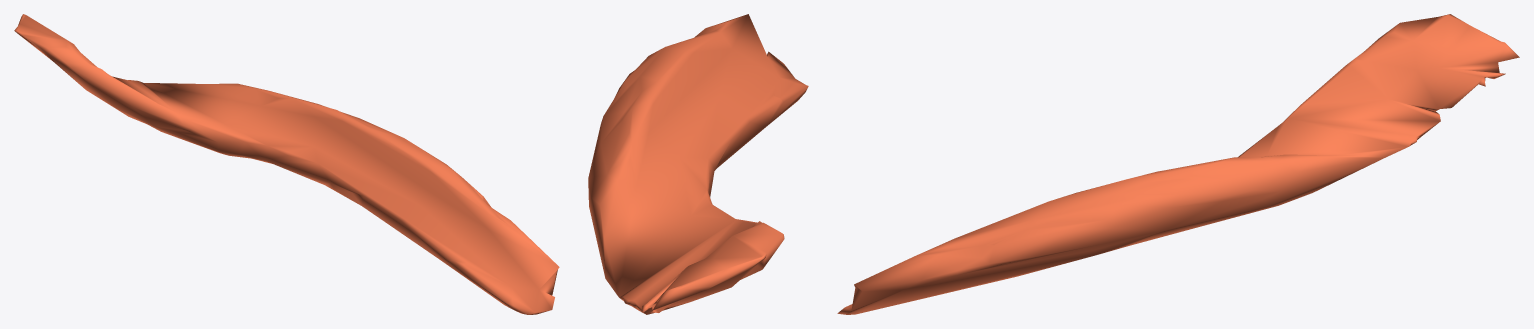
File: Opponens_digiti_minimi_foot_left.glb
The picture shows the model from 3 angles, left to right: view 1: azimuth 30°, elevation 25°; view 2: azimuth 150°, elevation 25°; view 3: azimuth 270°, elevation 25°; orthographic projection. The views are drawn at different scales.
Parts seen in each view (by area): view 1: Opponens_digiti_minimi_of_foot.l_Generated_Mesh_From_X3D.318; view 2: Opponens_digiti_minimi_of_foot.l_Generated_Mesh_From_X3D.318; view 3: Opponens_digiti_minimi_of_foot.l_Generated_Mesh_From_X3D.318.
Boxes of the visible parts, bbox=[...] form: Opponens_digiti_minimi_of_foot.l_Generated_Mesh_From_X3D.318: bbox=[14, 14, 559, 314]; Opponens_digiti_minimi_of_foot.l_Generated_Mesh_From_X3D.318: bbox=[588, 14, 808, 314]; Opponens_digiti_minimi_of_foot.l_Generated_Mesh_From_X3D.318: bbox=[837, 14, 1519, 314].
Bounding box in the file's own units: 0.0226 × 0.0116 × 0.0433.
